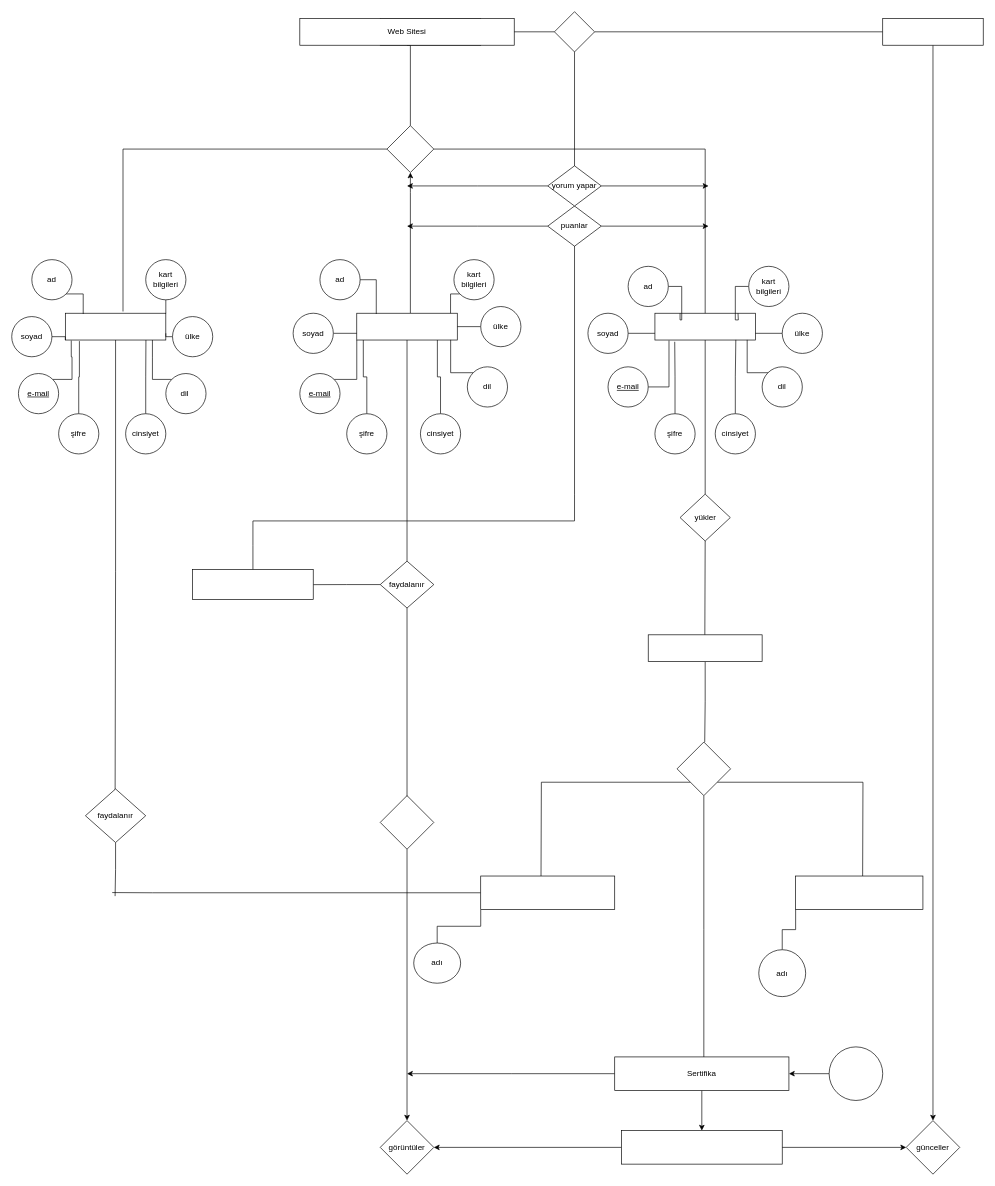
Image size: 995x1186. Some labels were removed from this diagram. Here are the shapes that lost their labels. From the top down, the box of each, then its label:
(554, 11, 595, 52): yönetir
(882, 18, 983, 45): Admin
(386, 125, 434, 173): kullanır
(65, 313, 166, 340): Kullanıcılar
(356, 313, 457, 340): Müşteriler
(654, 313, 755, 340): Eğitmenler
(192, 569, 313, 600): Kampanyalar
(648, 634, 762, 662): Ders
(676, 741, 731, 796): içerir
(380, 795, 434, 849): hak kazanır
(480, 875, 615, 910): Ücretsiz Ders
(795, 875, 923, 910): Ücretli Ders
(828, 1046, 883, 1100): id
(621, 1130, 782, 1164): İlerleme durmu
